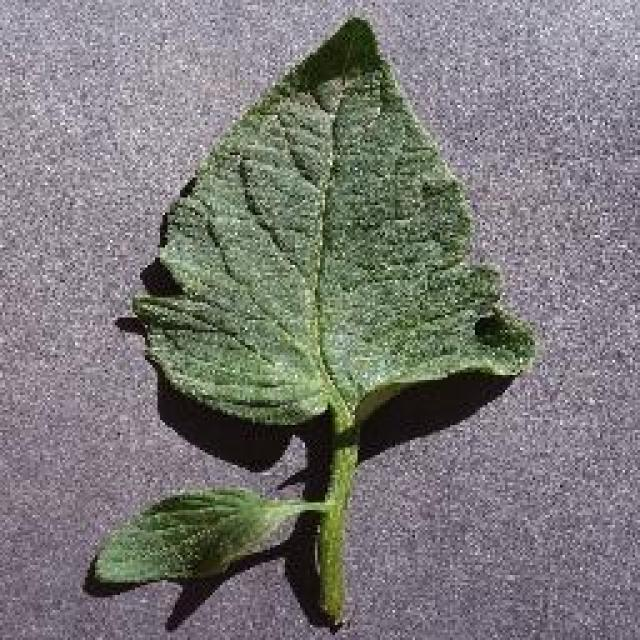Healthy: (73, 0, 555, 635)
